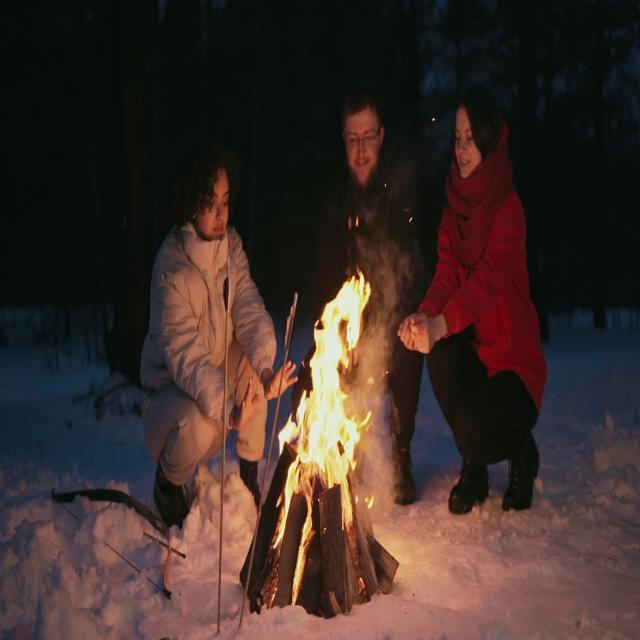Fire: (276, 268, 376, 536)
